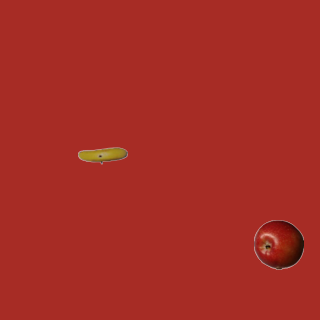Apple Braeburn: (253, 219, 303, 269)
Banana: (77, 130, 127, 180)
